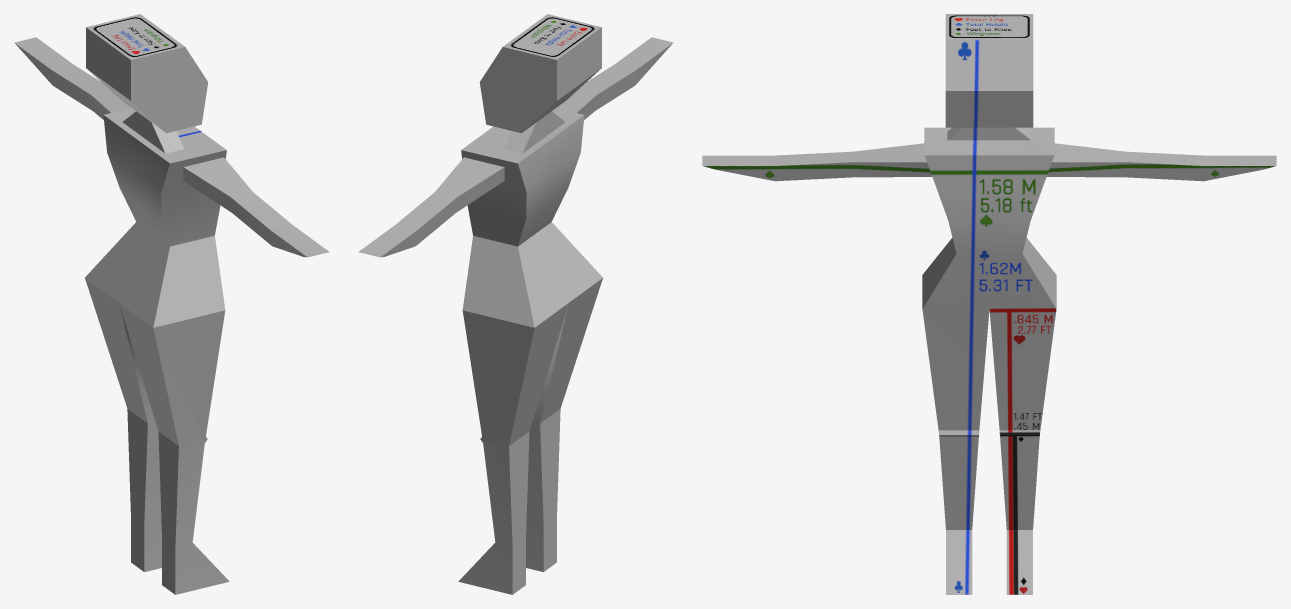
File: QSR FBX.fbx
3 renders of one model, left to right at view 1: azimuth 30°, elevation 25°; view 2: azimuth 150°, elevation 25°; view 3: azimuth 270°, elevation 25°, orthographic. The views are drawn at different scales.
Parts seen in each view (by area): view 1: Jorr_QSR; view 2: Jorr_QSR; view 3: Jorr_QSR.
Part boxes in pixels (<box>): Jorr_QSR: <box>14,14,329,594</box>; Jorr_QSR: <box>358,14,673,594</box>; Jorr_QSR: <box>702,14,1276,594</box>.
Size of the model in its own units: 0.3082 by 1.62 by 1.58.
